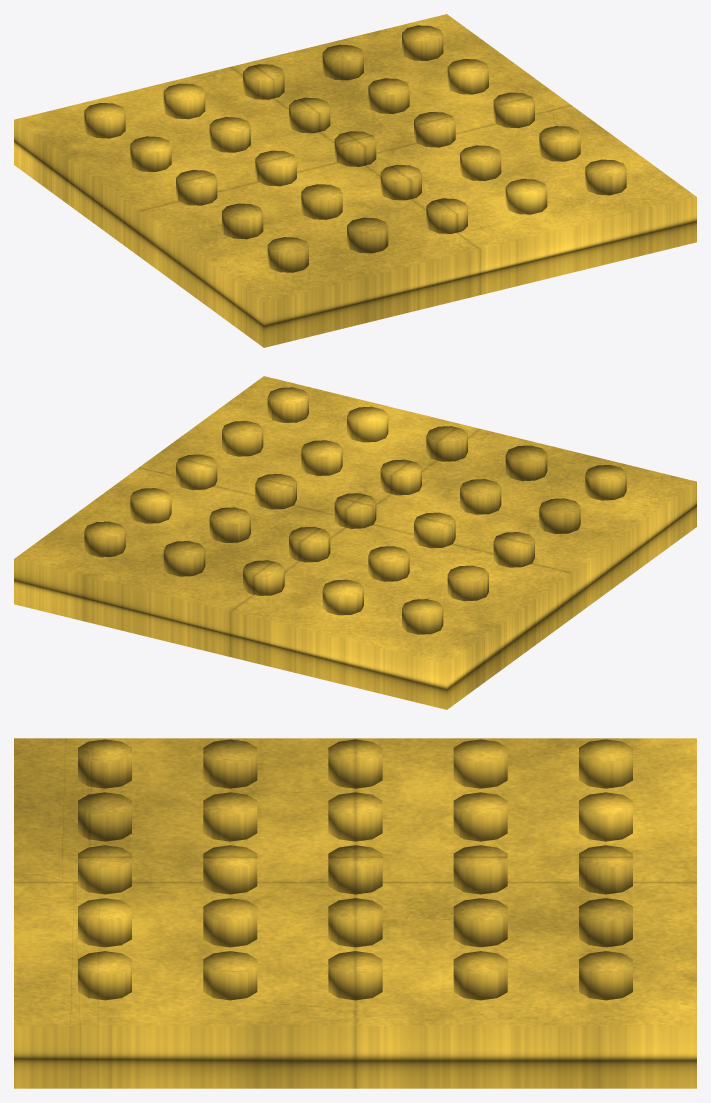
File: MKT_TactilePaving_0p6m.obj
3 views of the same model, one above another, from view 1: azimuth 30°, elevation 25°; view 2: azimuth 150°, elevation 25°; view 3: azimuth 270°, elevation 25° (orthographic). The views are drawn at different scales.
Visible parts, largest first — view 1: MKT_TactilePaving_0p6m; view 2: MKT_TactilePaving_0p6m; view 3: MKT_TactilePaving_0p6m.
Boxes of the visible parts, x1,y1,x2,y2 form: MKT_TactilePaving_0p6m: (14, 14, 696, 347); MKT_TactilePaving_0p6m: (14, 376, 696, 709); MKT_TactilePaving_0p6m: (14, 738, 696, 1088).
Size of the model in its own units: 0.6 by 0.0845 by 0.6.
Materials: 1 (1 with a texture image).
